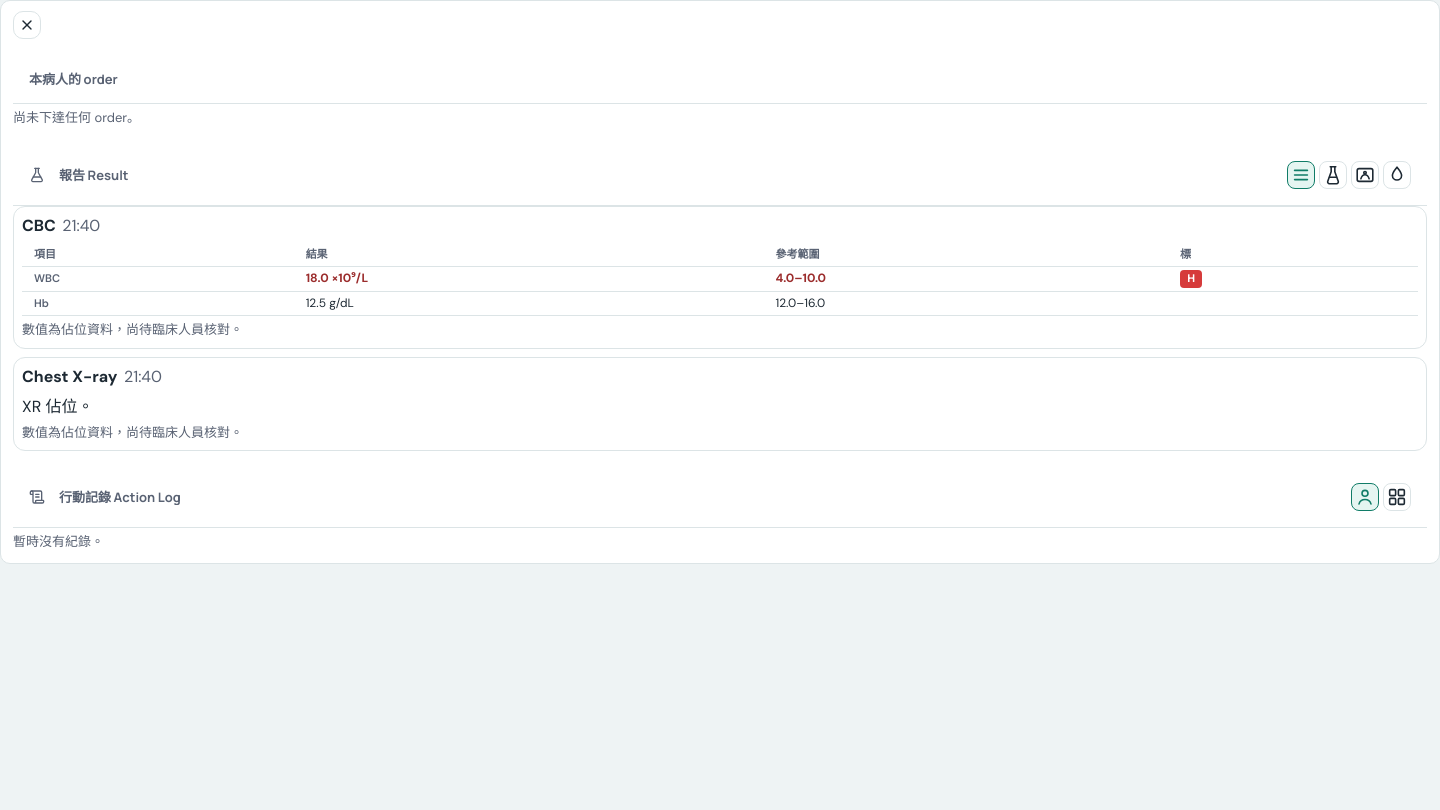
Test: LogPanel：報告同執行者 › 報告可以按化驗、影像、即場篩選
This screenshot has width=1440, height=810.
Expected: the heading "報告 Result" is shown, [13,145,1427,206]
Expected: the button with test id "report-bucket-laboratory" is empty, [1319,161,1347,189]
Click the button with test id "report-bucket-radiology".
click(1365, 175)  # box [1351,161,1379,189]
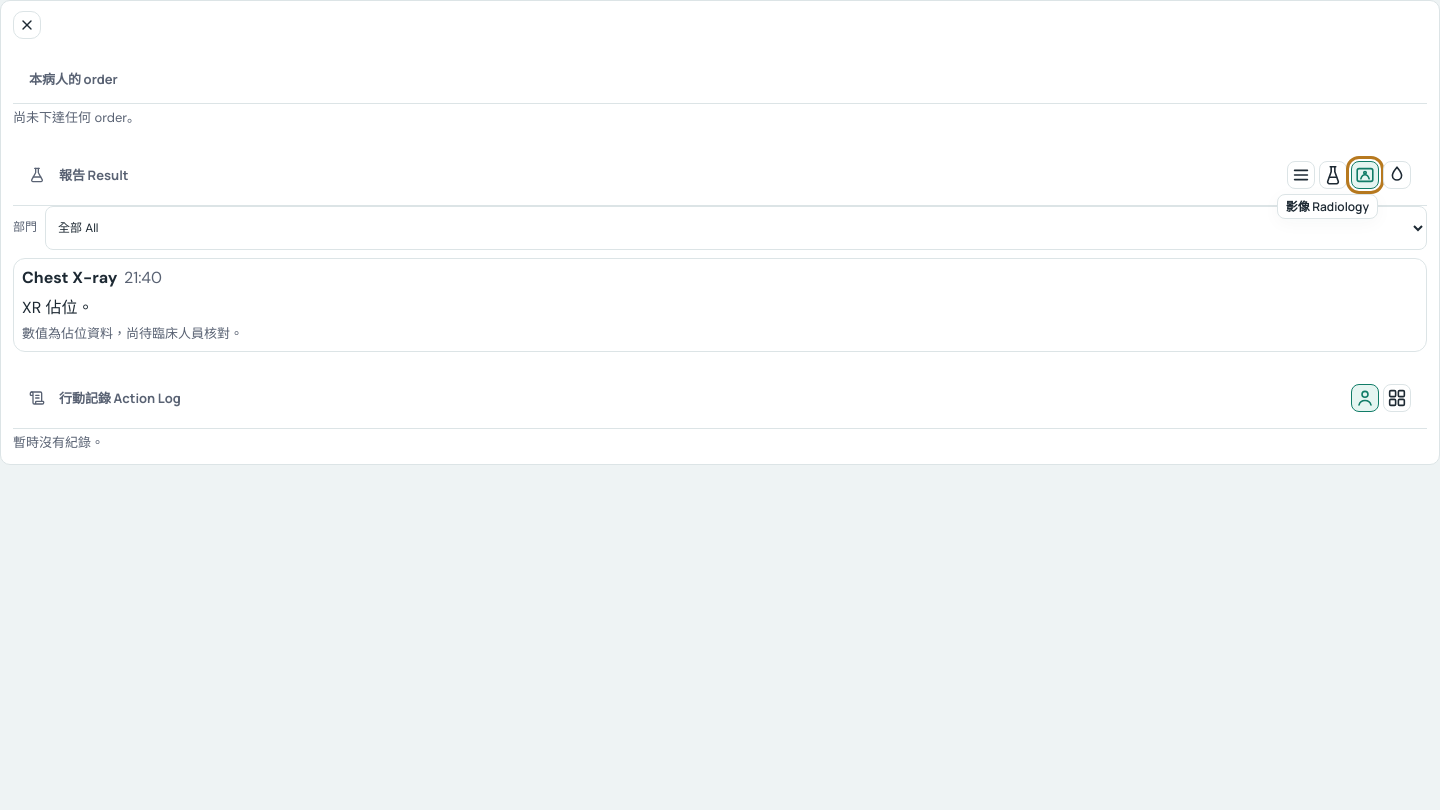
Expected: the text "XR 佔位。" is shown, [22,297,93,318]
Expected: the text "CBC" is gone
Click the button with test id "report-bucket-poct".
click(1397, 175)  # box [1383,161,1411,189]
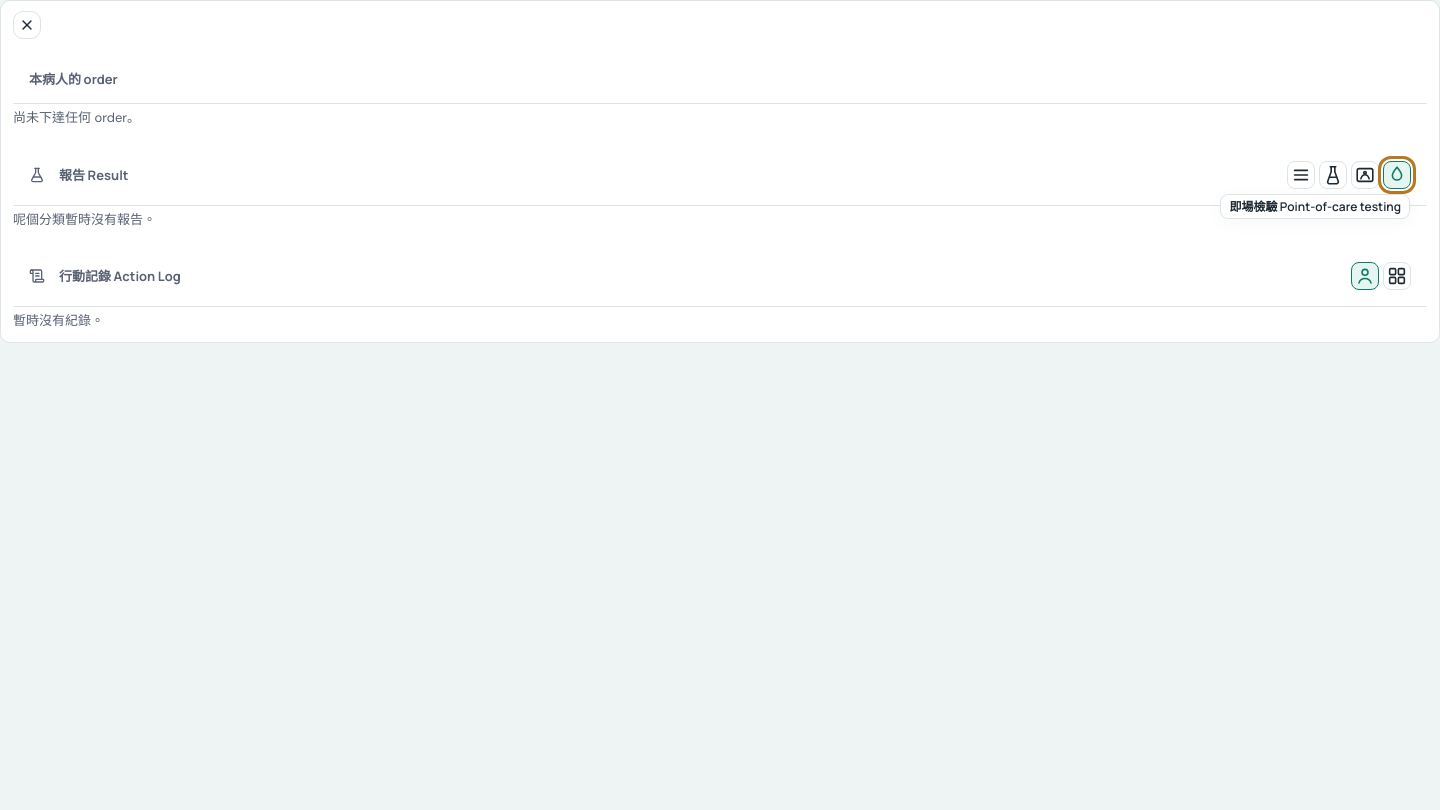
Expected: the dropdown with test id "report-section" is gone
Expected: the text "呢個分類暫時沒有報告。" is shown, [13,211,156,228]
